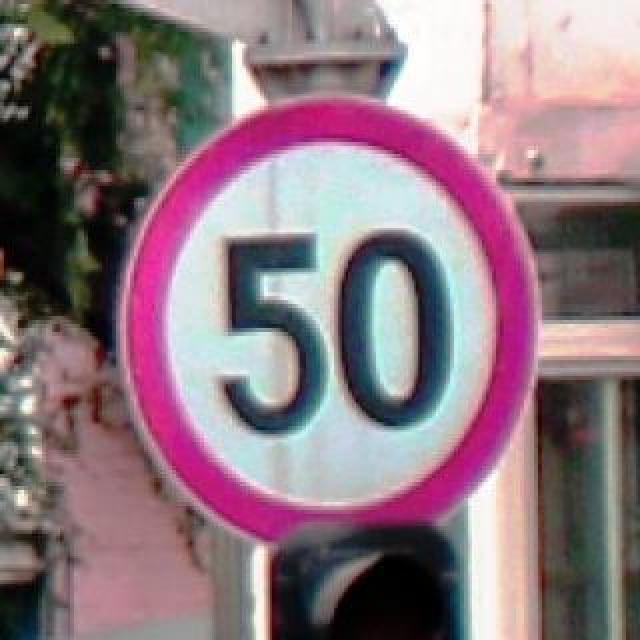50 kph: (114, 88, 542, 550)
